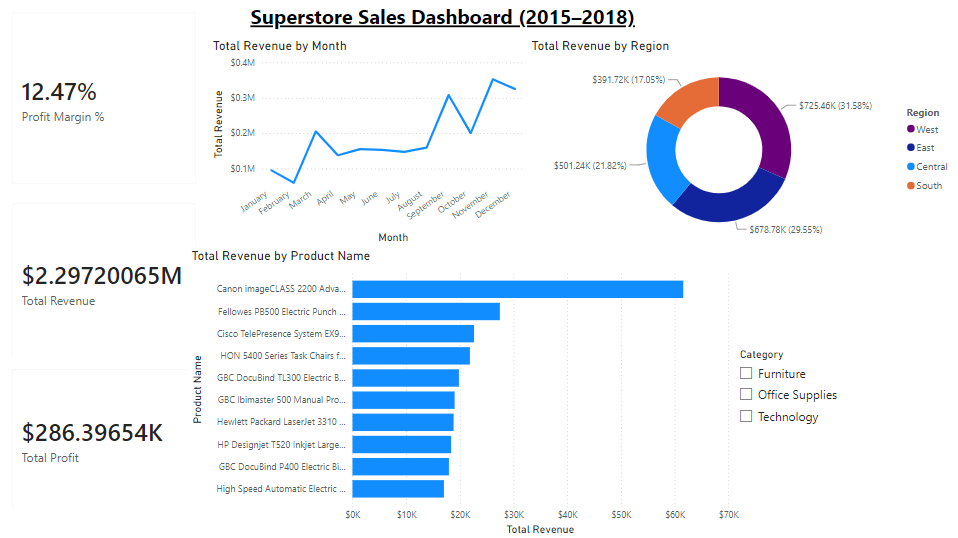

This screenshot's page, from the dashboard's own definition file:
{"tool":"powerbi","page":{"name":"Page 1","canvas":[1280,720],"ordinal":0},"visuals":[{"type":"cardVisual","fields":{"Data":["superstore_clean.Profit Margin %"]},"box":[0,0,280,264.2],"z":0},{"type":"cardVisual","fields":{"Data":["superstore_clean.Total Revenue"]},"box":[0,254.4,280,246.7],"z":1000},{"type":"cardVisual","fields":{"Data":["superstore_clean.Total Profit"]},"box":[0,476.7,280,221.7],"z":2000},{"type":"lineChart","fields":{"Category":["superstore_clean.Order Month Name.Variation.Date Hierarchy.Month"],"Y":["superstore_clean.Total Revenue"]},"box":[280,51.7,425,280],"z":3000},{"type":"clusteredBarChart","fields":{"Category":["superstore_clean.Product Name"],"Y":["superstore_clean.Total Revenue"]},"box":[251.7,331.7,740,388.3],"z":3001},{"type":"donutChart","fields":{"Category":["superstore_clean.Region"],"Y":["superstore_clean.Total Revenue"]},"box":[705,51.7,575,280],"z":3002},{"type":"slicer","fields":{"Values":["superstore_clean.Category"]},"box":[975,460,288.3,173.3],"z":3003},{"type":"textbox","box":[291.7,0,600,51.7],"z":3004}]}

Visuals, with their boxes in screenshot pixels (x1, y1, x2, y2), scaled from the page's 1280x720 canvas onto the 958x538 screenshot:
cardVisual - superstore_clean.Profit Margin %: bbox=[0, 0, 210, 197]
cardVisual - superstore_clean.Total Revenue: bbox=[0, 190, 210, 374]
cardVisual - superstore_clean.Total Profit: bbox=[0, 356, 210, 522]
lineChart - superstore_clean.Order Month Name.Variation.Date Hierarchy.Month x superstore_clean.Total Revenue: bbox=[210, 39, 528, 248]
clusteredBarChart - superstore_clean.Product Name x superstore_clean.Total Revenue: bbox=[188, 248, 742, 537]
donutChart - superstore_clean.Region x superstore_clean.Total Revenue: bbox=[528, 39, 957, 248]
slicer - superstore_clean.Category: bbox=[730, 344, 946, 473]
textbox: bbox=[218, 0, 667, 39]
